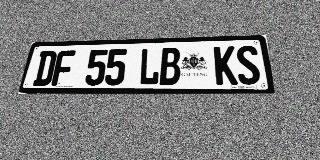5: (84, 49, 108, 86), (104, 49, 127, 85)
B: (159, 47, 180, 85)
D: (32, 51, 58, 86)
F: (51, 50, 76, 86)
K: (214, 46, 238, 85)
L: (138, 48, 160, 85)
S: (235, 45, 262, 85)
